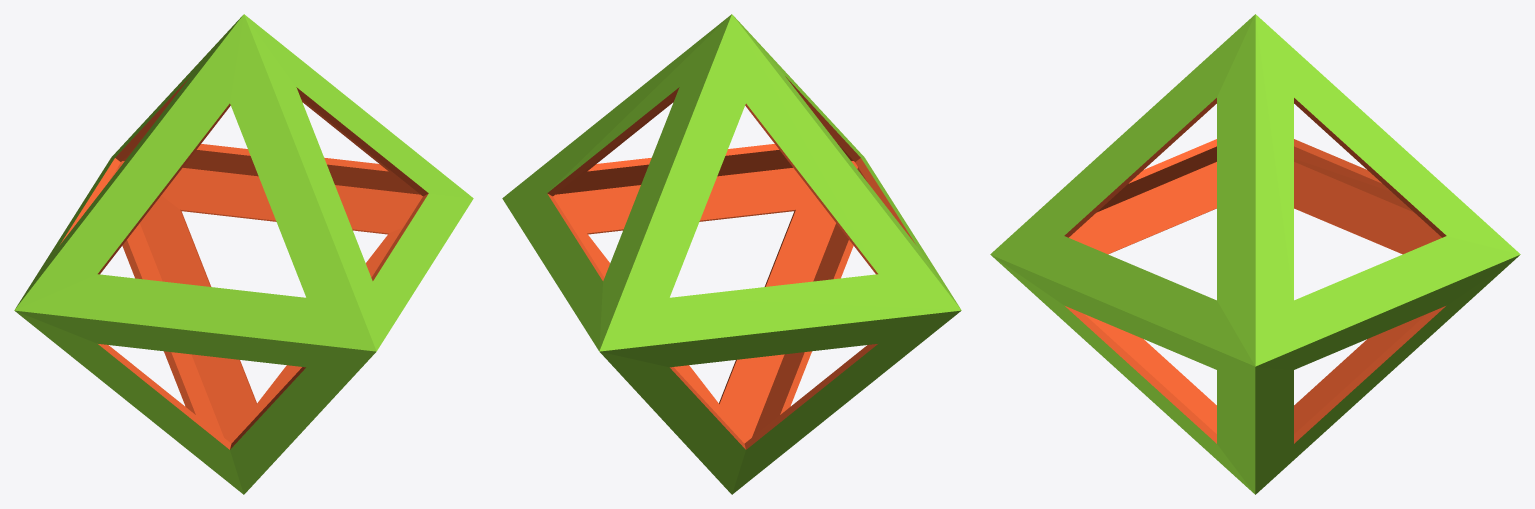
The model's file is _OctahedronS1.glb.
The picture shows the model from 3 angles, left to right: view 1: azimuth 30°, elevation 25°; view 2: azimuth 150°, elevation 25°; view 3: azimuth 270°, elevation 25°; orthographic projection.
Visible parts, largest first — view 1: root; view 2: root; view 3: root.
Part boxes in pixels (x1=…): root: x1=14, y1=14, x2=473, y2=494; root: x1=502, y1=14, x2=961, y2=494; root: x1=990, y1=14, x2=1520, y2=494.
Size of the model in its own units: 1.43 by 1.43 by 1.43.
